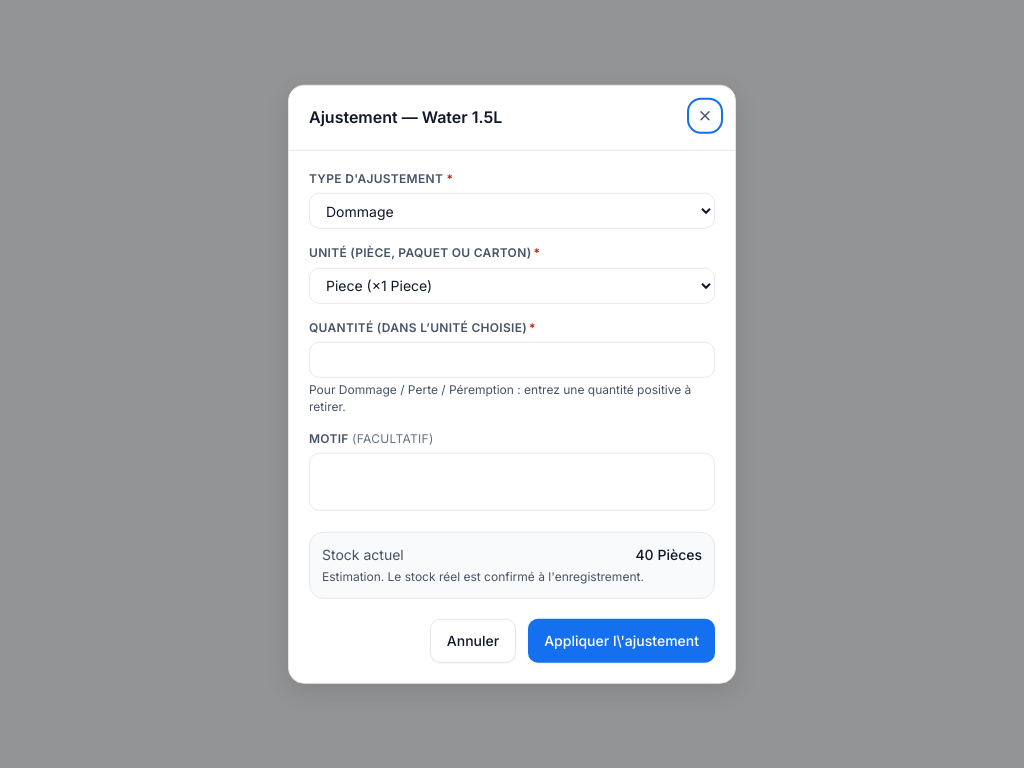
Test: AdjustmentModal mutation error path › renders mapped INVALID_QUANTITY after RPC error
Step 1. Type "5" into the number field → (512, 360), box x1=309 y1=342 x2=715 y2=378
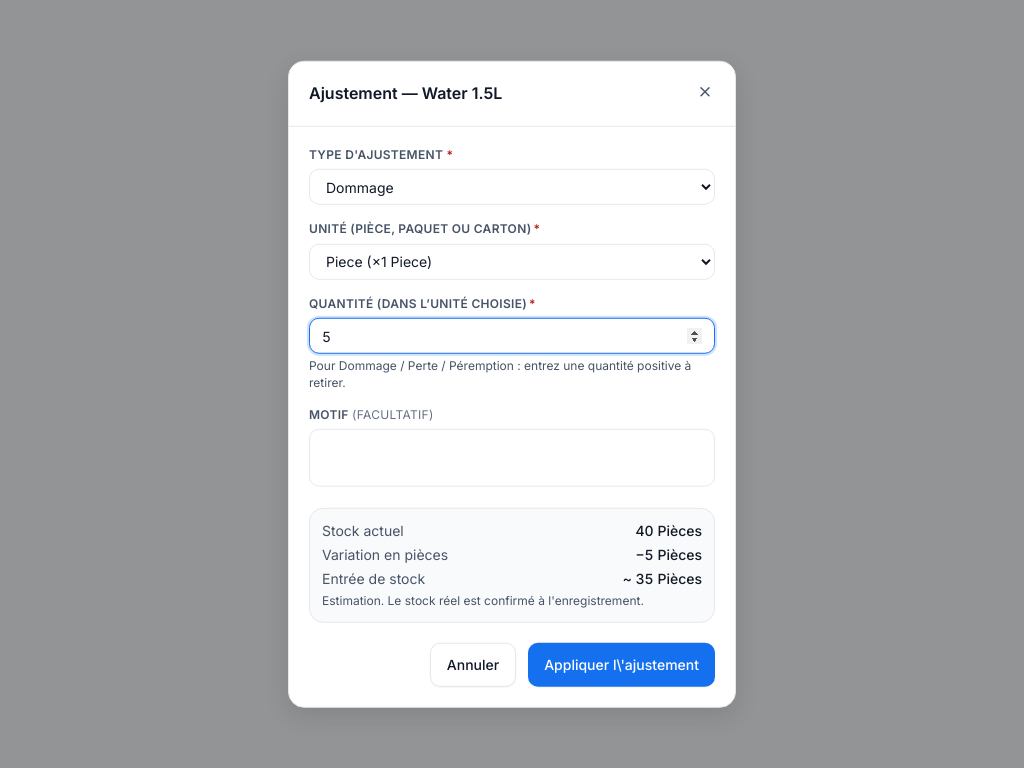
Step 2. Click the button "Appliquer l\\'ajustement" → (622, 664), box x1=528 y1=642 x2=715 y2=686
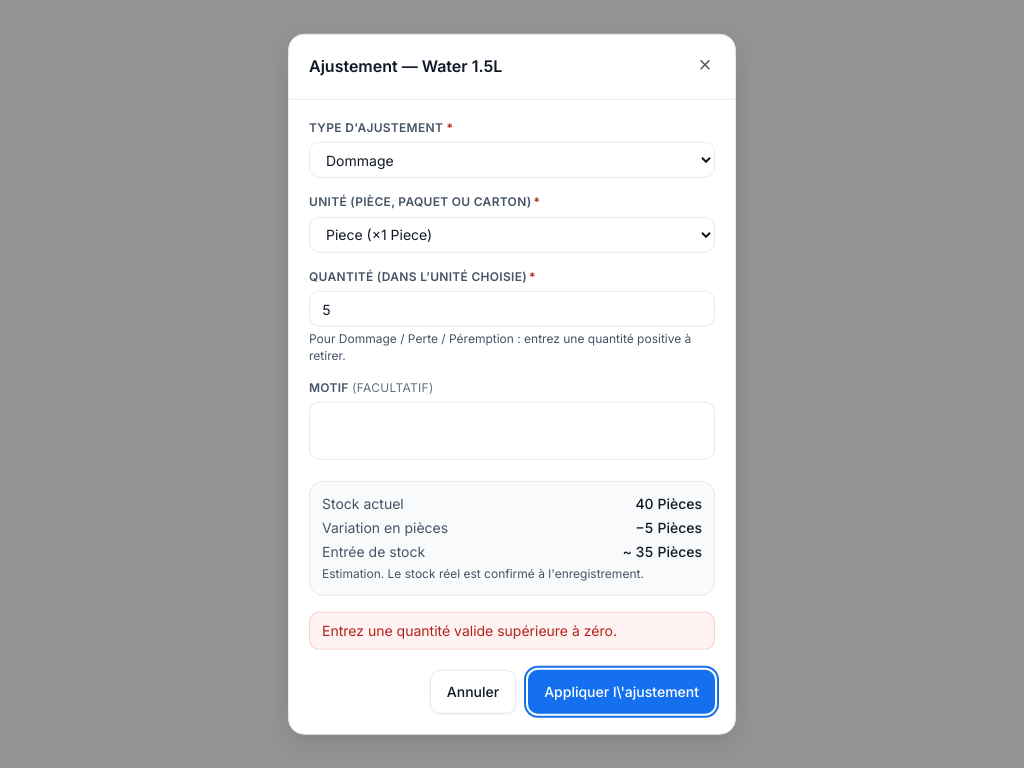
Check: the text "Entrez une quantité valide supérieure à zéro." is shown, box x1=322 y1=621 x2=617 y2=638
